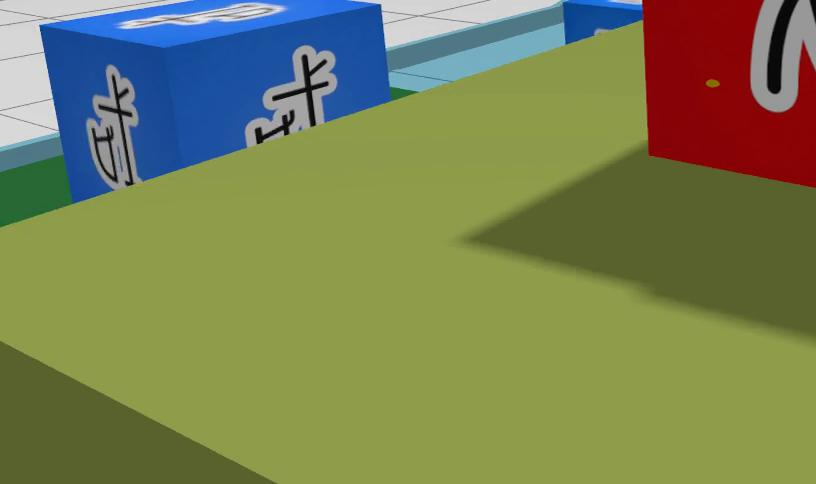KFS_FAKE: (643, 0, 816, 187), (750, 0, 816, 113)
KFS_REAL: (41, 0, 391, 202), (245, 45, 338, 146), (85, 64, 142, 190), (117, 0, 284, 28), (560, 0, 645, 45)
